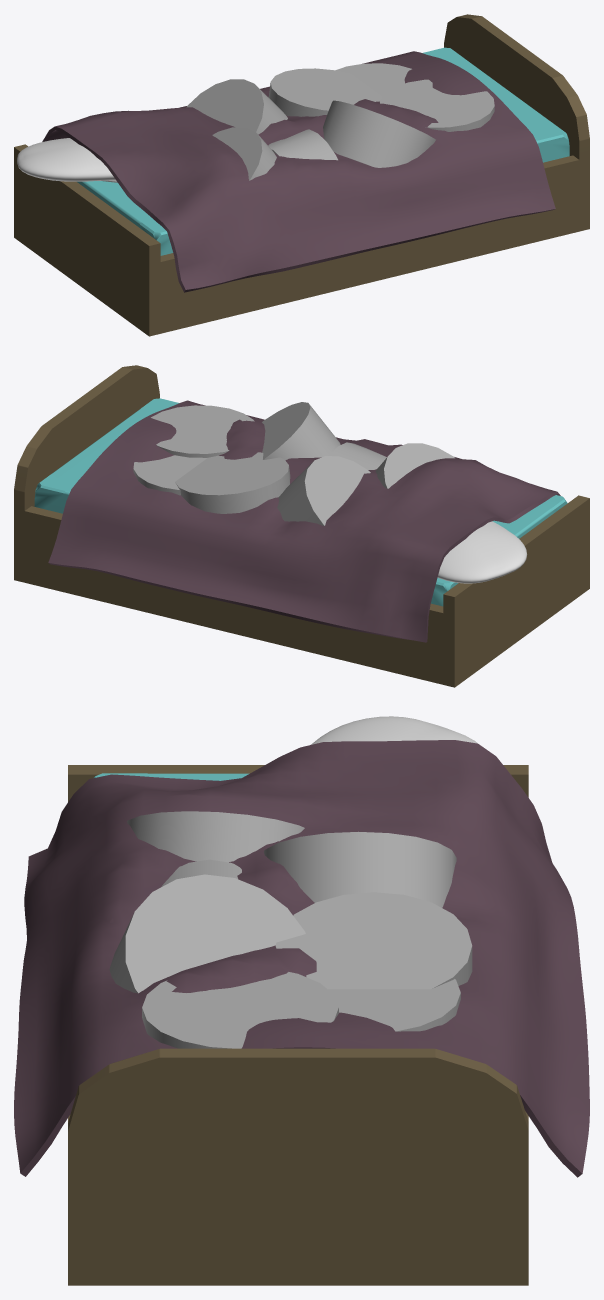
File: MessyBed.fbx
3 views of the same model, one above another, from view 1: azimuth 30°, elevation 25°; view 2: azimuth 150°, elevation 25°; view 3: azimuth 270°, elevation 25° (orthographic). The views are drawn at different scales.
Visible parts, largest first — view 1: MessyOBJ:polySurface1; view 2: MessyOBJ:polySurface1; view 3: MessyOBJ:polySurface1.
Boxes of the visible parts, <box> form: MessyOBJ:polySurface1: <box>14,14,589,336</box>; MessyOBJ:polySurface1: <box>14,365,589,687</box>; MessyOBJ:polySurface1: <box>14,716,589,1285</box>.
Bounding box in the file's own units: 17.84 × 5.23 × 11.12.
